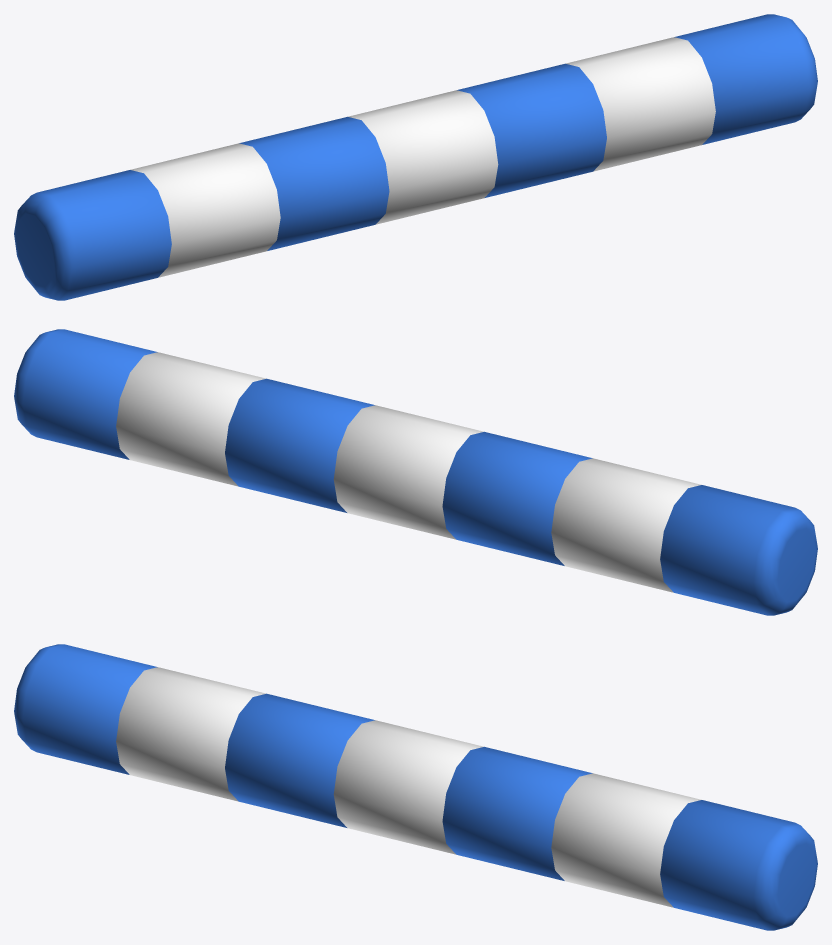
Rendered from RockinRacewayHurdleBar.obj.
3 renders of one model, top to bottom at view 1: azimuth 30°, elevation 25°; view 2: azimuth 150°, elevation 25°; view 3: azimuth 330°, elevation 25°, orthographic.
Parts seen in each view (by area): view 1: BarA, BarB; view 2: BarA, BarB; view 3: BarA, BarB.
Boxes of the visible parts, <box> form: BarA: <box>14,14,817,300</box>; BarB: <box>130,37,715,277</box>; BarA: <box>14,329,817,615</box>; BarB: <box>116,352,701,592</box>; BarA: <box>14,644,817,930</box>; BarB: <box>116,667,701,907</box>.
Size of the model in its own units: 3.94 by 0.5 by 0.5.
